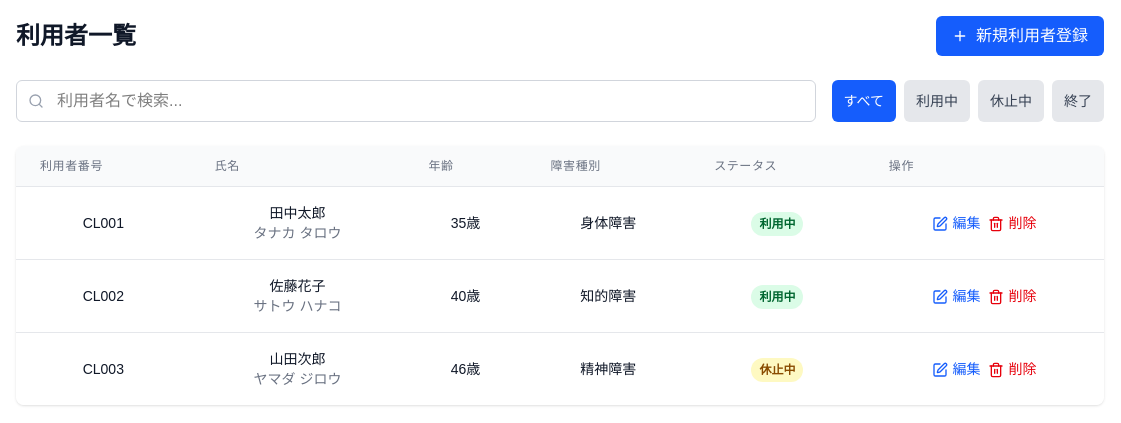
ClientList › status filtering › filters clients by active status
Click the button "利用中": (937, 101) 904,80 -> 970,122
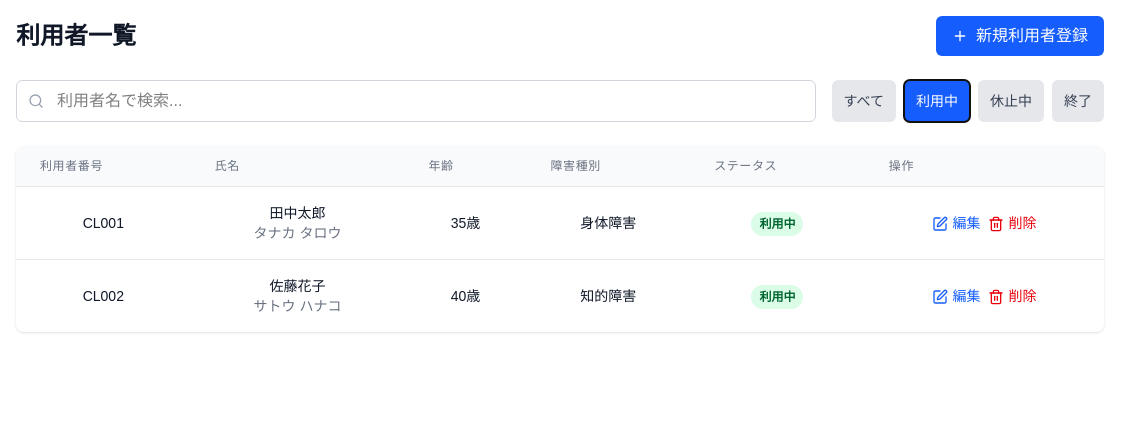
Check: the text "田中太郎" is shown, box 270,205 -> 326,221
Check: the text "山田次郎" is gone
